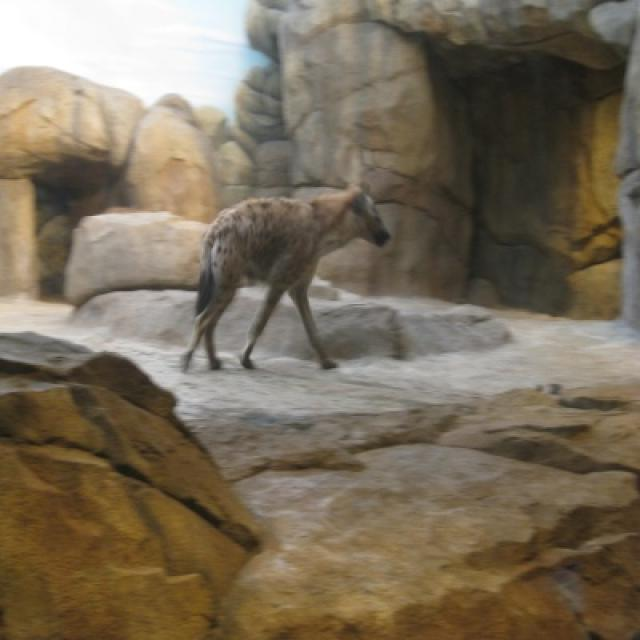hyena: (182, 189, 390, 373)
